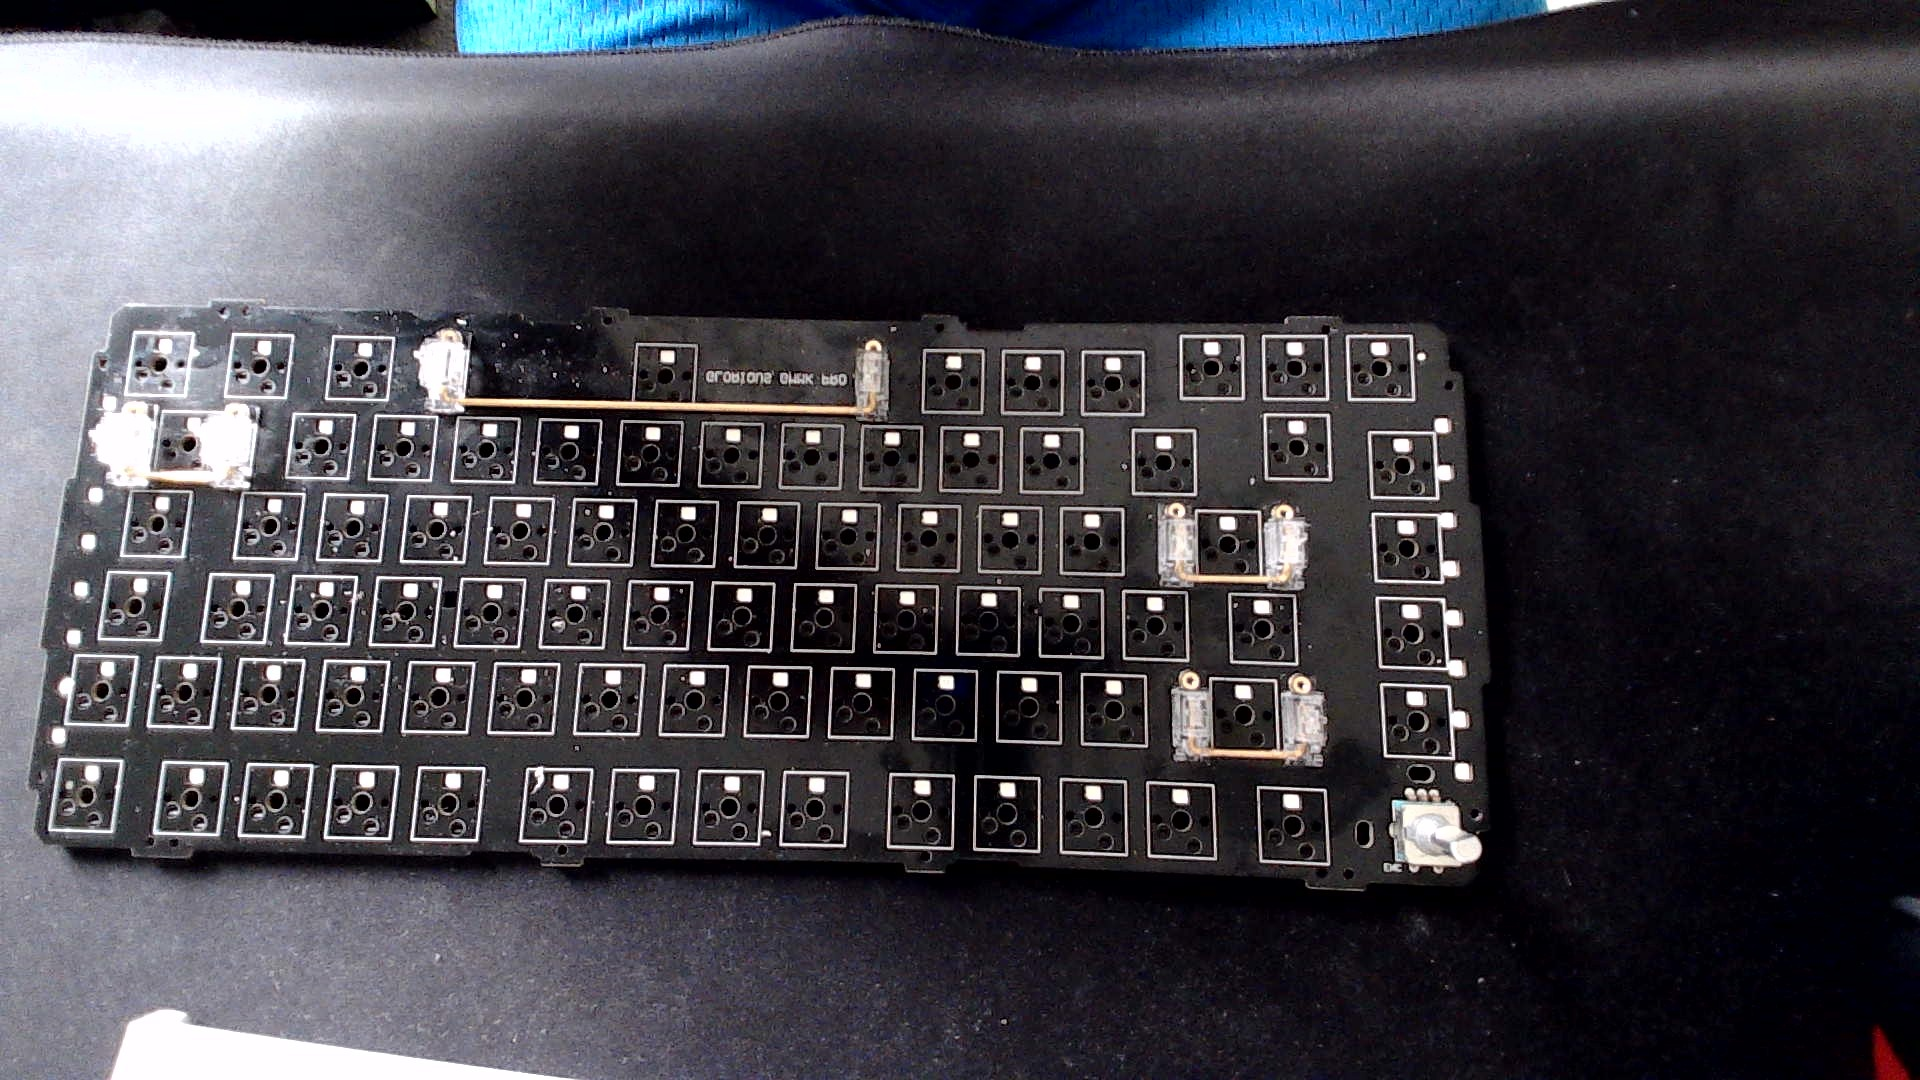pcb: (13, 276, 1520, 907)
